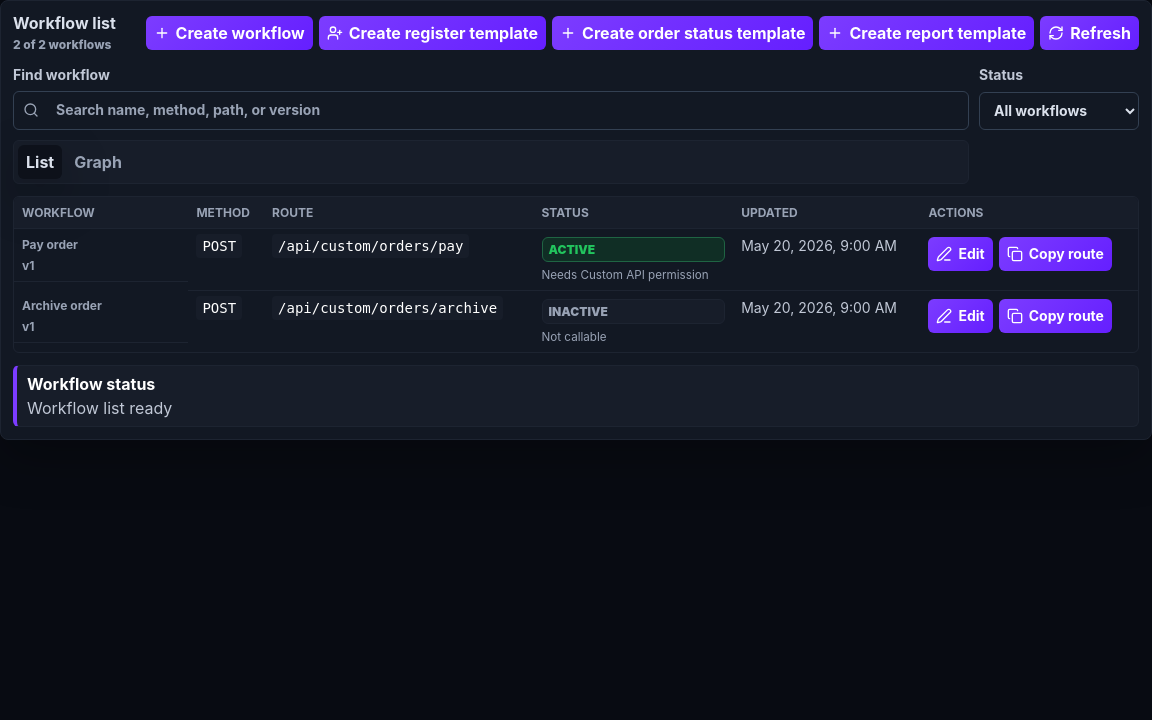
it: WorkflowManager › creates the order status template with transition guards
Click the button "Create order status template" at (683, 33), box 552,16 -> 814,50
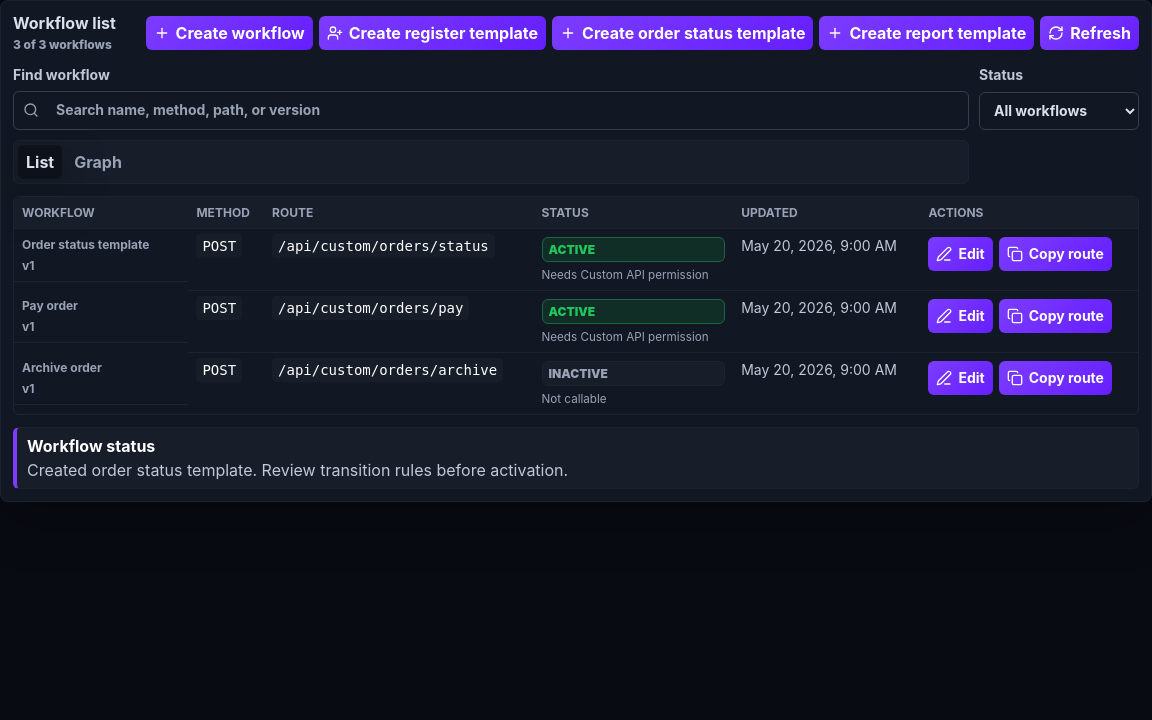
Now the text "Created order status template" is shown, box 27,460 -> 568,480
